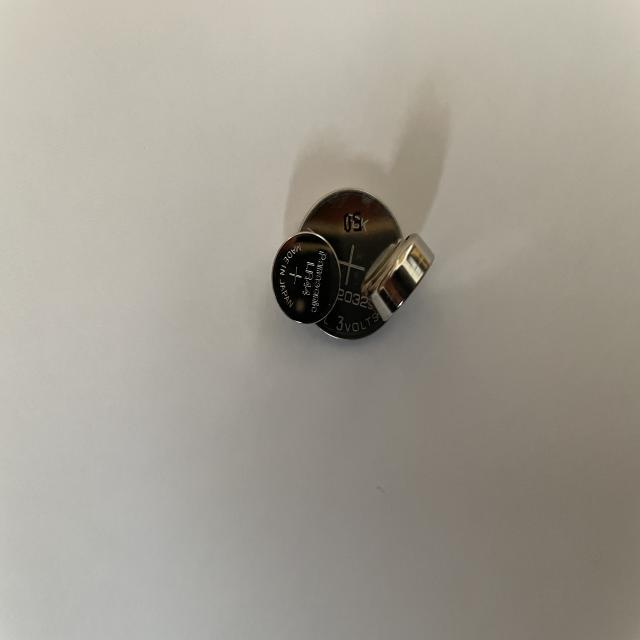COIN: (293, 188, 408, 342), (362, 230, 436, 322), (270, 232, 340, 326)
